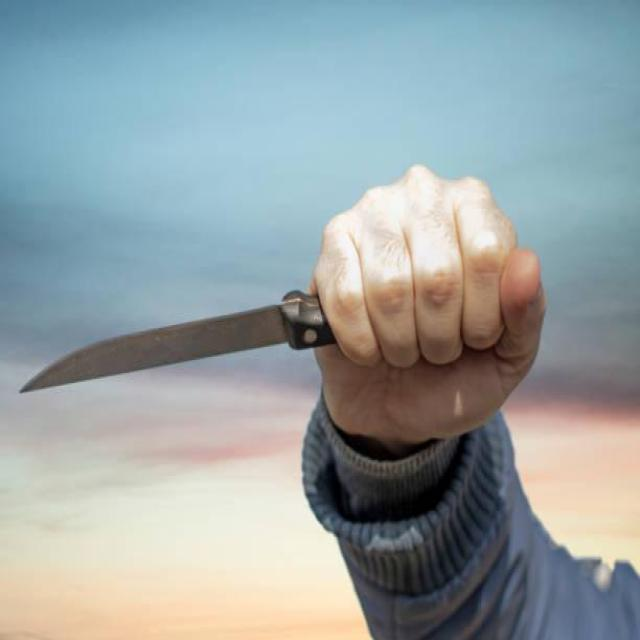faca: (16, 154, 570, 460)
